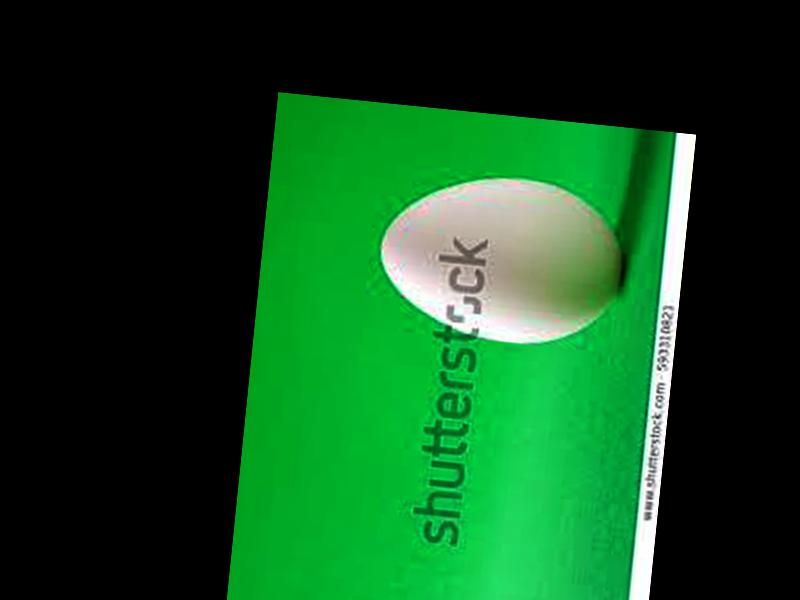Eggs: (373, 164, 634, 353)
